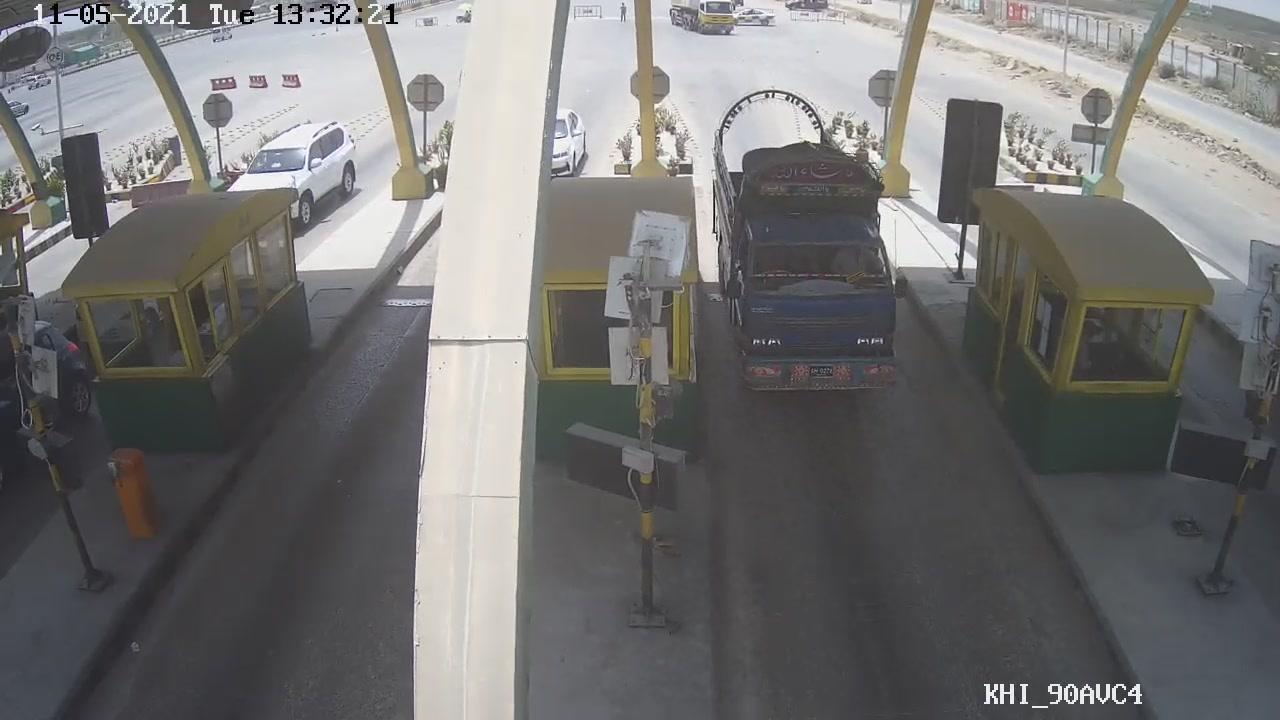F5: (706, 87, 898, 399)
